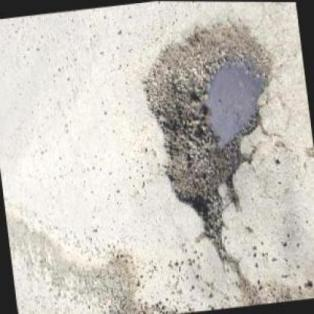Hueco: (133, 15, 291, 237)
